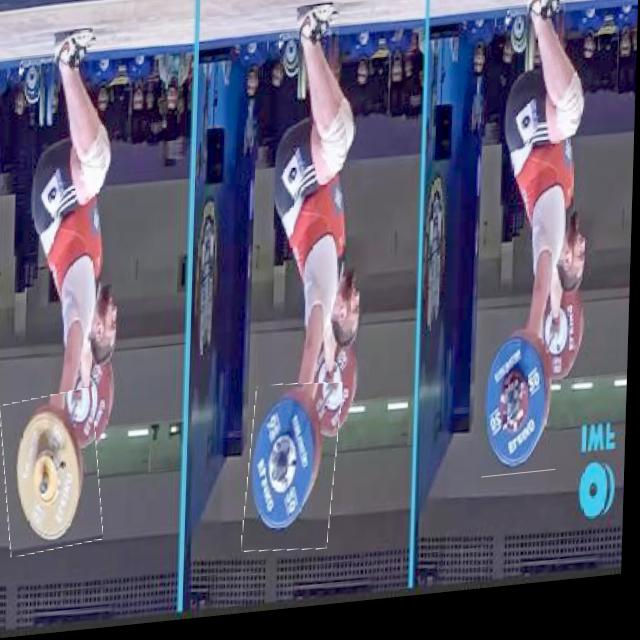barbell: (5, 392, 107, 558), (249, 387, 344, 562), (486, 322, 563, 490)
